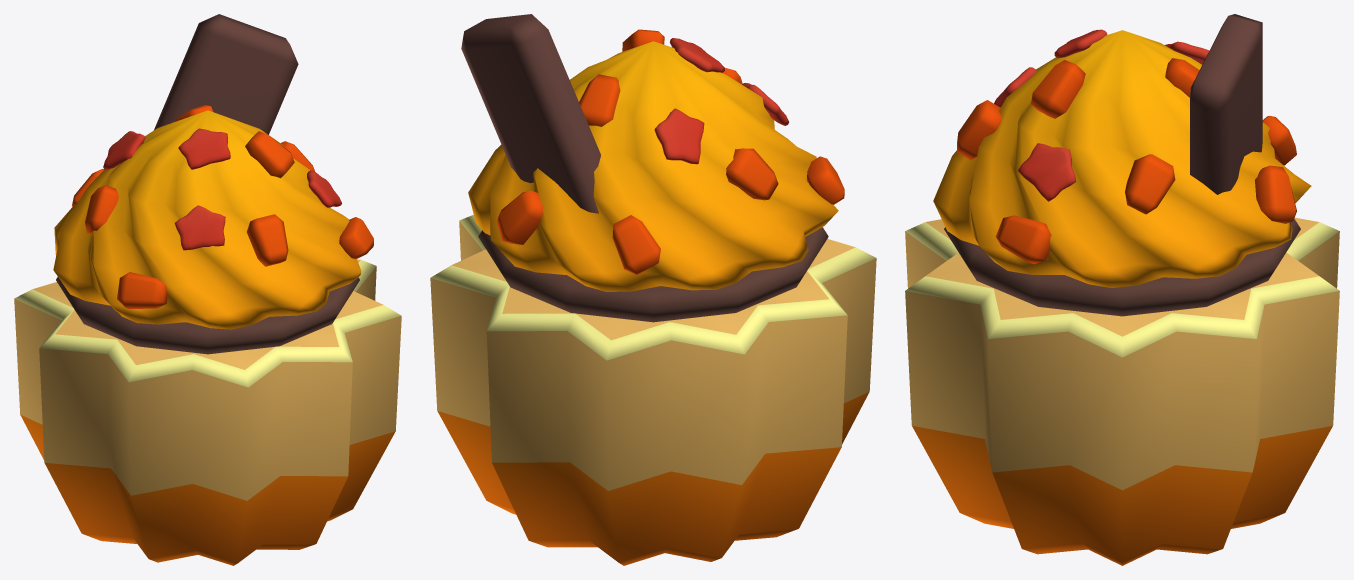
Rendered from IceCream.fbx.
The picture shows the model from 3 angles, left to right: view 1: azimuth 30°, elevation 25°; view 2: azimuth 150°, elevation 25°; view 3: azimuth 270°, elevation 25°; orthographic projection. The views are drawn at different scales.
Parts seen in each view (by area): view 1: Map02_Kem_LV5; view 2: Map02_Kem_LV5; view 3: Map02_Kem_LV5.
Boxes of the visible parts, left/top/right/bottom form: Map02_Kem_LV5: left=14, top=14, right=401, bottom=565; Map02_Kem_LV5: left=430, top=14, right=876, bottom=565; Map02_Kem_LV5: left=905, top=14, right=1339, bottom=565.
Bounding box in the file's own units: 56.14 × 70.98 × 53.4.
